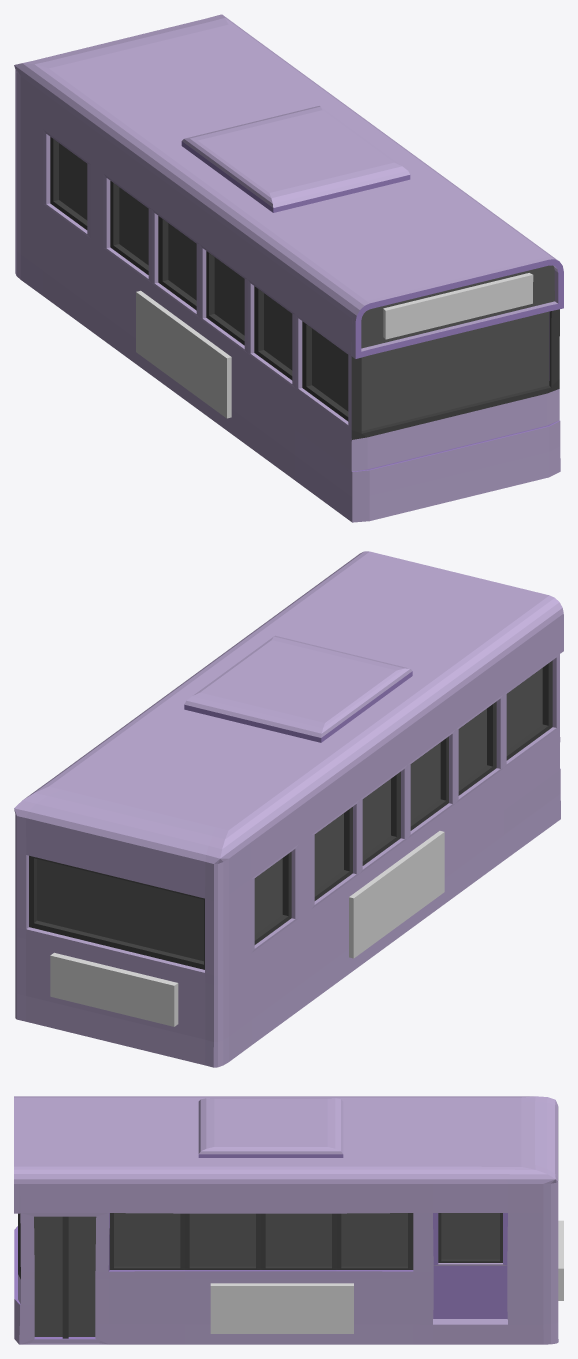
Rendered from bus.glb.
3 views of the same model, one above another, from view 1: azimuth 30°, elevation 25°; view 2: azimuth 150°, elevation 25°; view 3: azimuth 270°, elevation 25° (orthographic). The views are drawn at different scales.
Visible parts, largest first — view 1: 立方体; view 2: 立方体; view 3: 立方体.
Boxes of the visible parts, x1,y1,x2,y2 form: 立方体: (14,14,563,522); 立方体: (14,551,563,1067); 立方体: (14,1096,563,1344).
Bounding box in the file's own units: 4.17 × 4.16 × 11.43.
